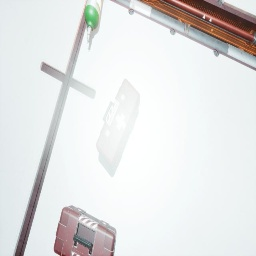0: (85, 0, 102, 44)
FirstAidBox ,: (96, 78, 140, 169), (54, 205, 116, 256)
